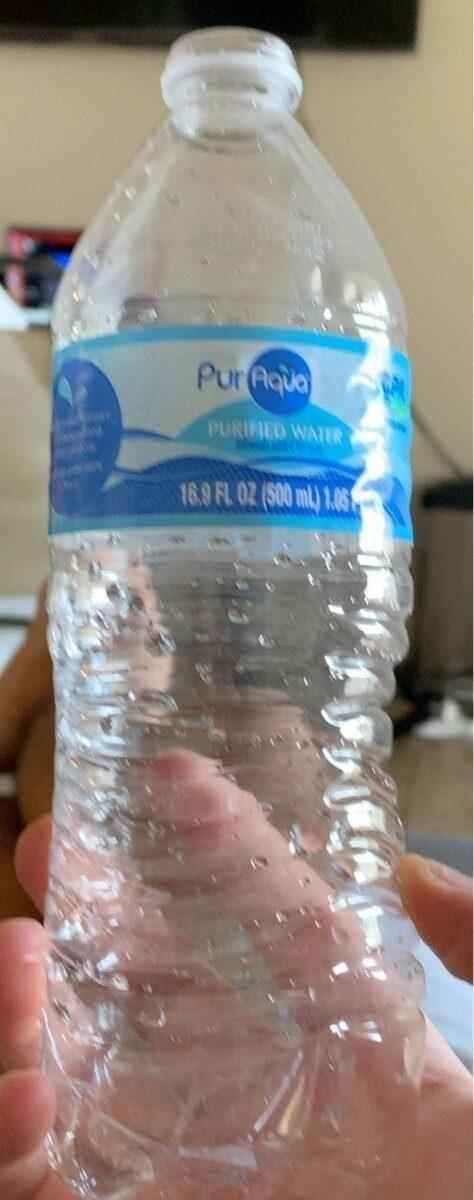bottle: (18, 18, 474, 1200)
